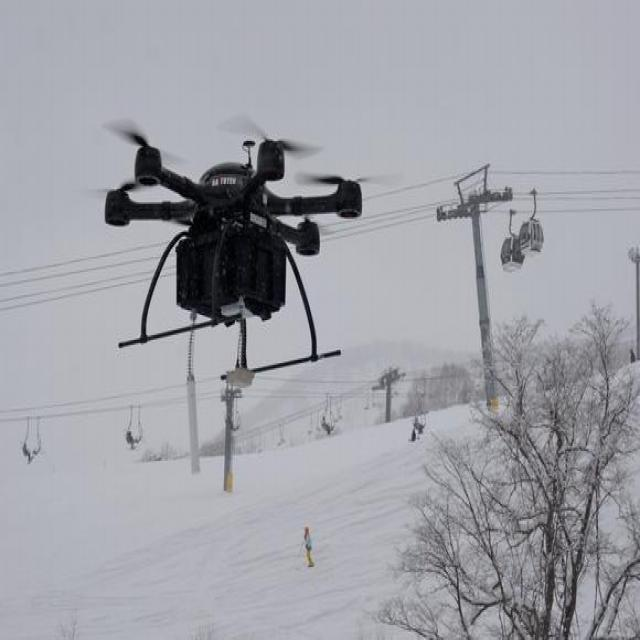UAV: (103, 131, 365, 390)
